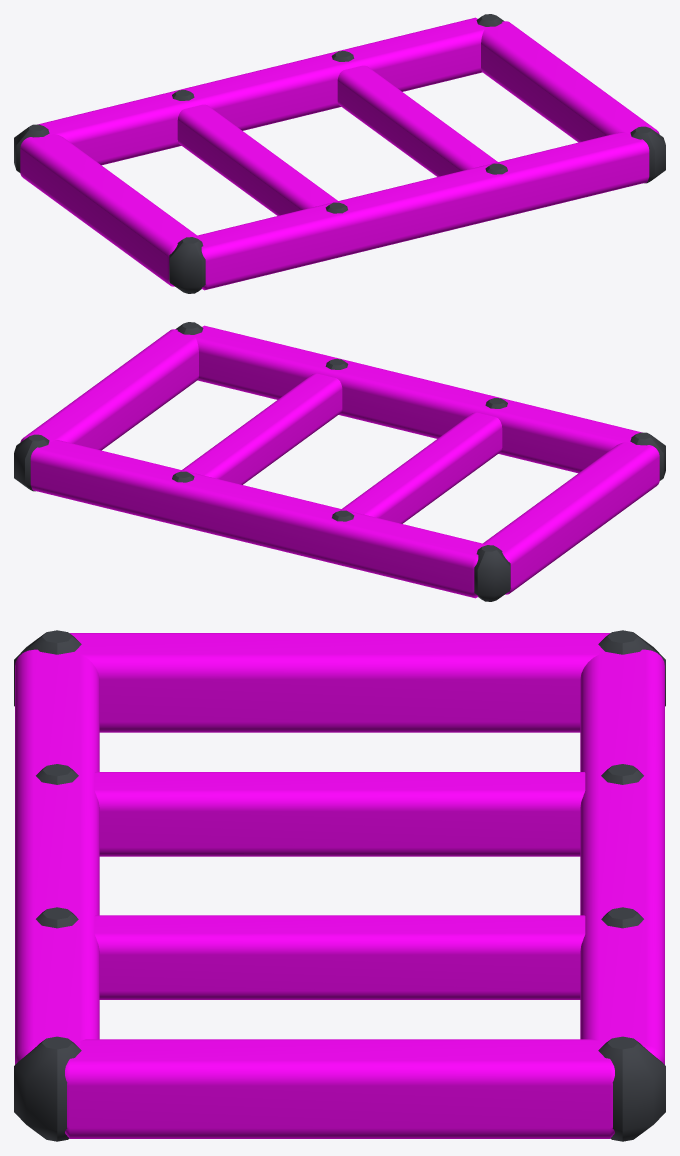
Rendered from objet_chassis_simple.glb.
3 views of the same model, one above another, from view 1: azimuth 30°, elevation 25°; view 2: azimuth 150°, elevation 25°; view 3: azimuth 270°, elevation 25° (orthographic). The views are drawn at different scales.
Parts seen in each view (by area): view 1: chassis_teinte.008, chassis_soudure.002; view 2: chassis_teinte.008, chassis_soudure.002; view 3: chassis_teinte.008, chassis_soudure.002.
Part boxes in pixels (left/top/right/bottom): chassis_teinte.008: left=20, top=17, right=659, bottom=290; chassis_soudure.002: left=14, top=14, right=665, bottom=293; chassis_teinte.008: left=20, top=325, right=659, bottom=598; chassis_soudure.002: left=14, top=322, right=665, bottom=601; chassis_teinte.008: left=15, top=633, right=664, bottom=1138; chassis_soudure.002: left=14, top=630, right=665, bottom=1141.
Size of the model in its own units: 0.3706 by 0.036 by 0.2306.
